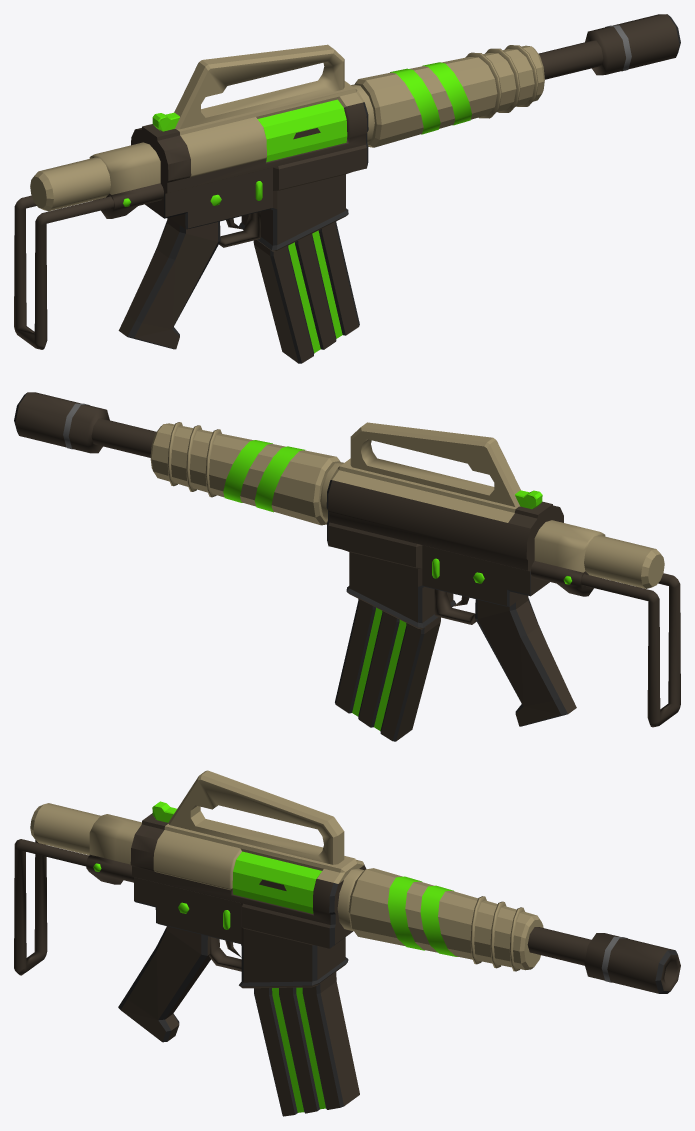
The model's file is weapon2.fbx.
3 renders of one model, top to bottom at view 1: azimuth 30°, elevation 25°; view 2: azimuth 150°, elevation 25°; view 3: azimuth 330°, elevation 25°, orthographic.
Visible parts, largest first — view 1: weapon2; view 2: weapon2; view 3: weapon2.
Part boxes in pixels (x1,y1,x2,y2): weapon2: [14, 14, 680, 363]; weapon2: [14, 392, 680, 741]; weapon2: [14, 770, 680, 1116].
Size of the model in its own units: 0.5388 by 0.2523 by 0.0543.
